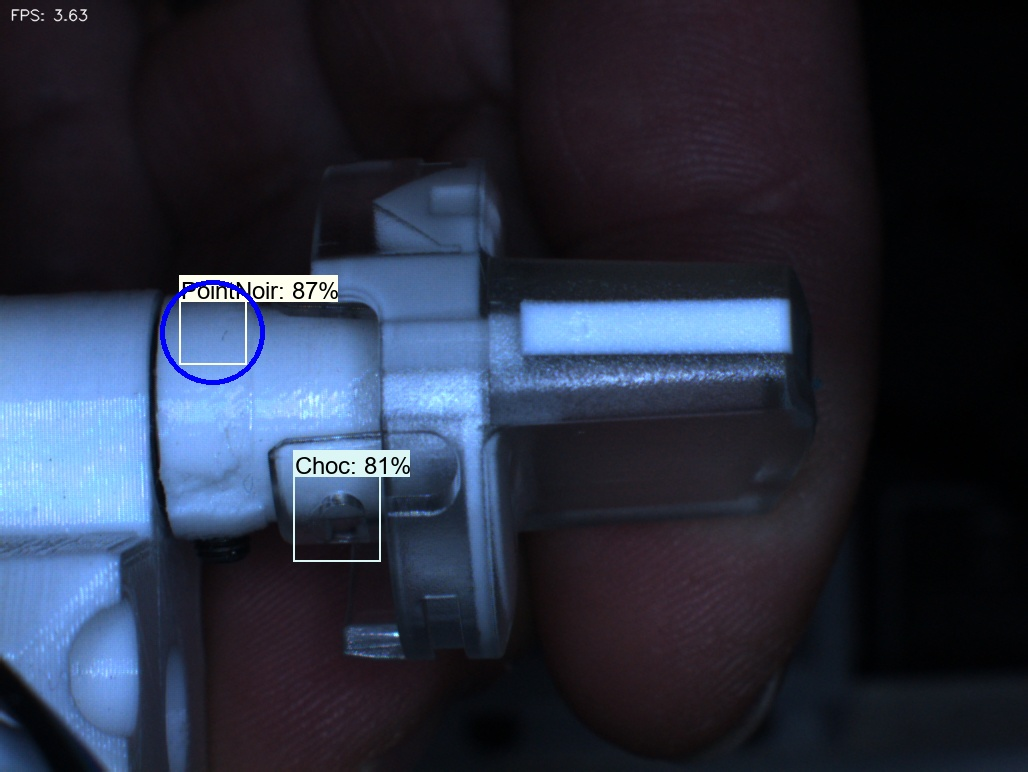DentOk: (350, 173, 417, 261)
